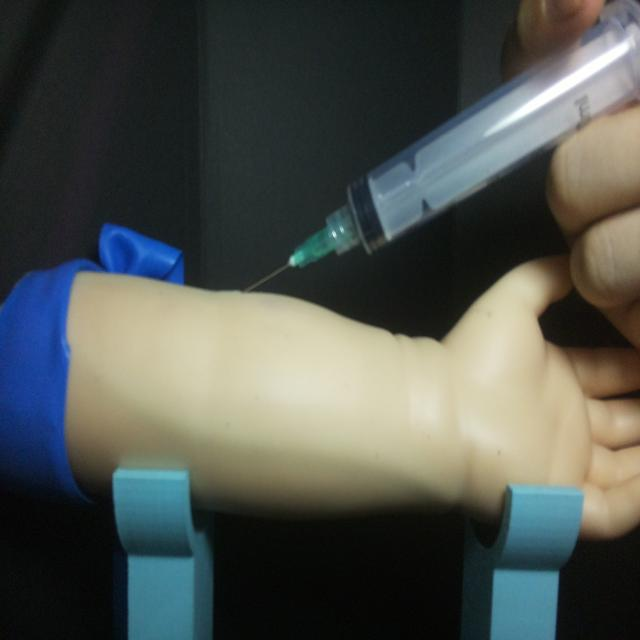17deg: (236, 4, 637, 296)
